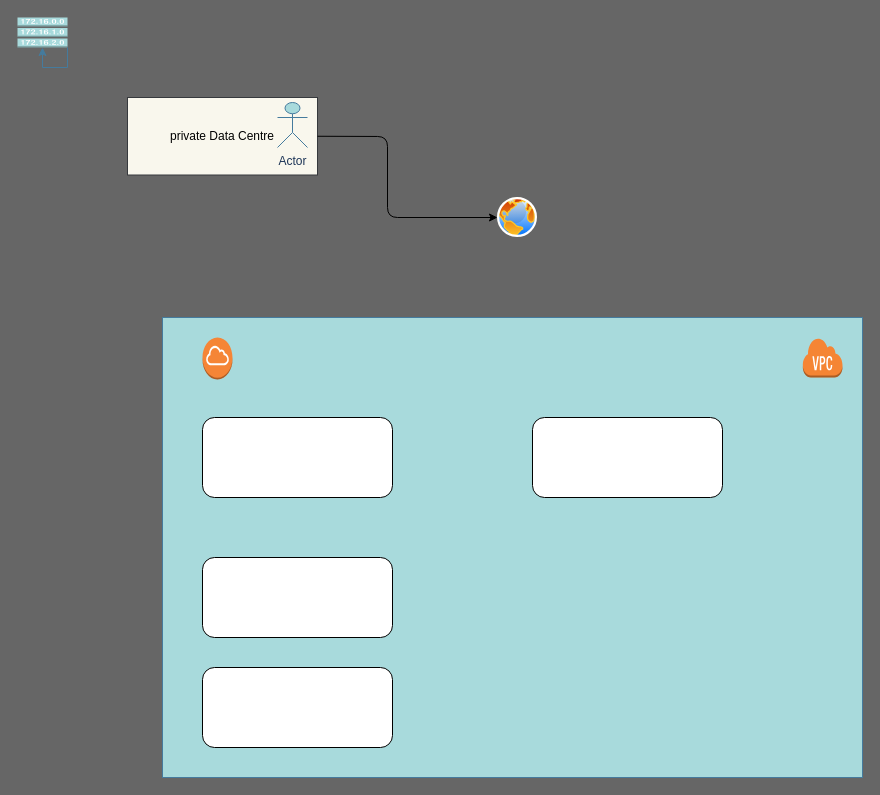
Some shapes in this 880 by 795 pixel diagram are drawn without their labels. Each missing label, with the centre of its shape:
internet gateway: point 217,358
VPC 10.0.0.0/16 eu-west-2: point 822,357
